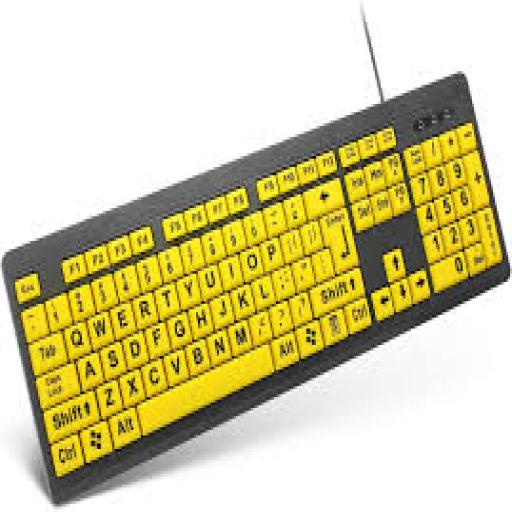keyboard: (4, 74, 508, 498)
